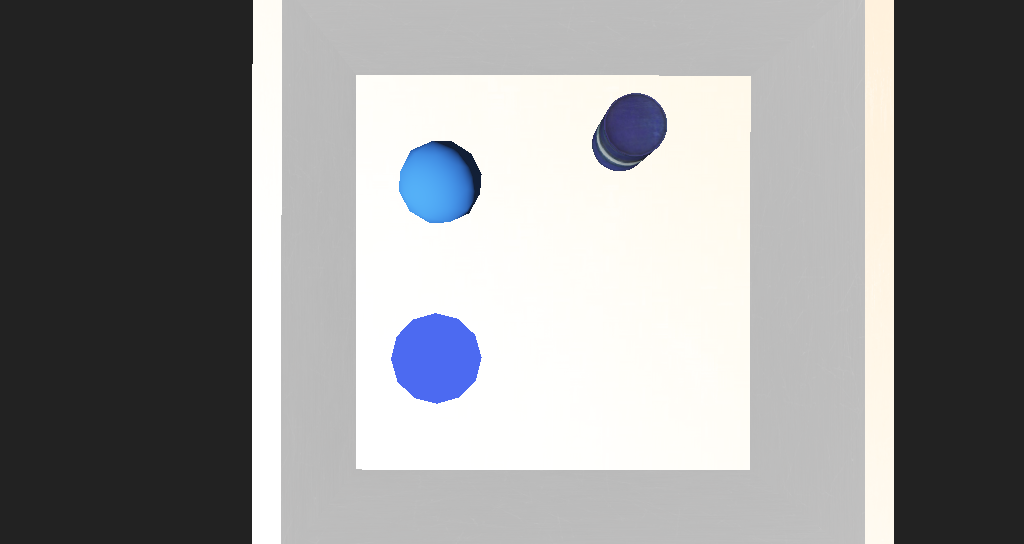cone: (532, 174, 586, 217)
cylinder: (384, 286, 451, 334)
sphere: (384, 196, 451, 243)
